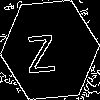Z: (25, 25, 56, 74)
